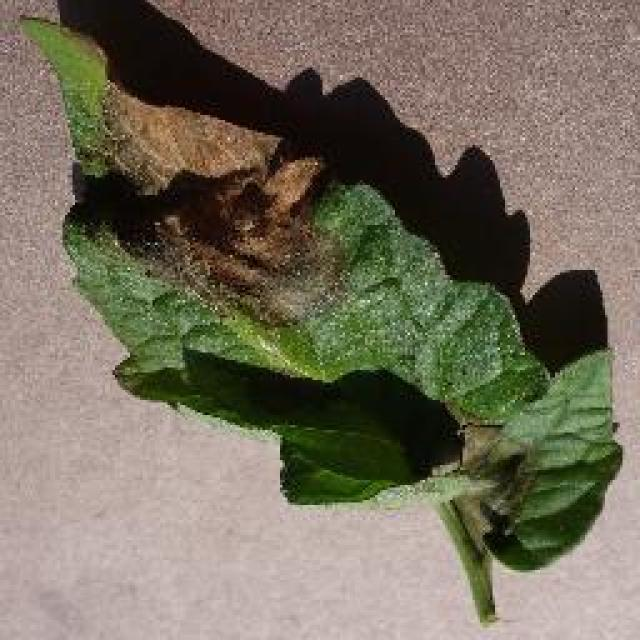Tomato___Late_blight: (13, 12, 628, 628)
